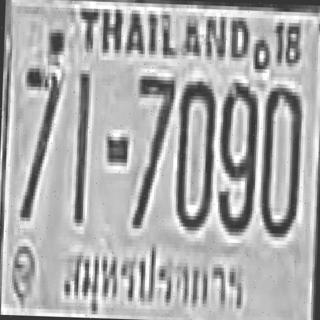N00: (259, 80, 301, 234), (173, 77, 214, 227)
N01: (72, 68, 90, 221)
N07: (132, 72, 175, 226), (19, 64, 61, 218)
N09: (215, 80, 256, 230)
P57: (58, 236, 257, 320)
